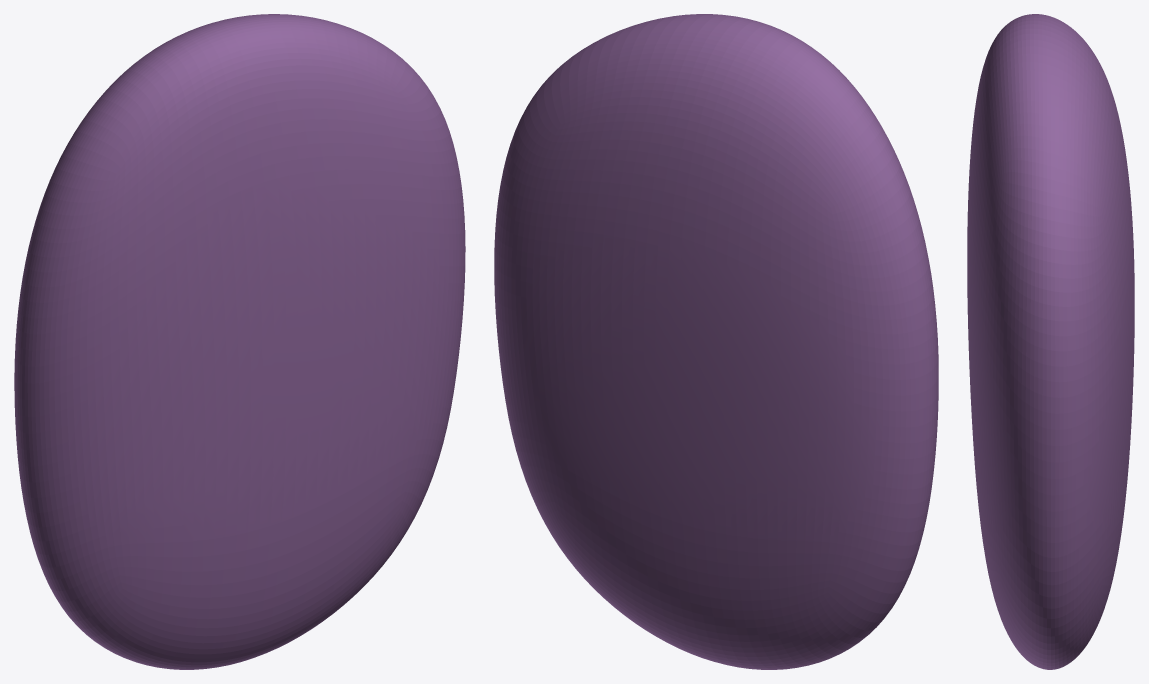
Rendered from stone_3.fbx.
3 views of the same model, side by side, from view 1: azimuth 30°, elevation 25°; view 2: azimuth 150°, elevation 25°; view 3: azimuth 270°, elevation 25° (orthographic). The views are drawn at different scales.
Parts seen in each view (by area): view 1: Cube.006; view 2: Cube.006; view 3: Cube.006.
Boxes of the visible parts, left/top/right/bottom form: Cube.006: left=14, top=14, right=465, bottom=669; Cube.006: left=494, top=14, right=938, bottom=669; Cube.006: left=967, top=14, right=1134, bottom=669.
Size of the model in its own units: 186 by 261 by 64.34.
